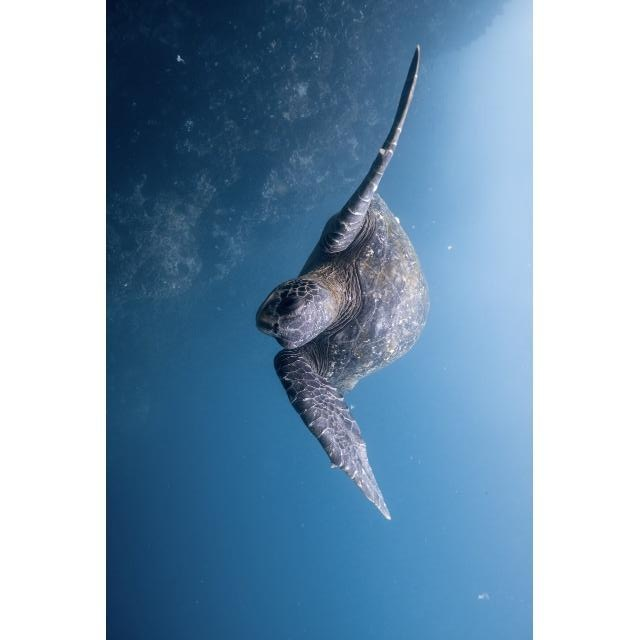turtle: (254, 41, 430, 522)
